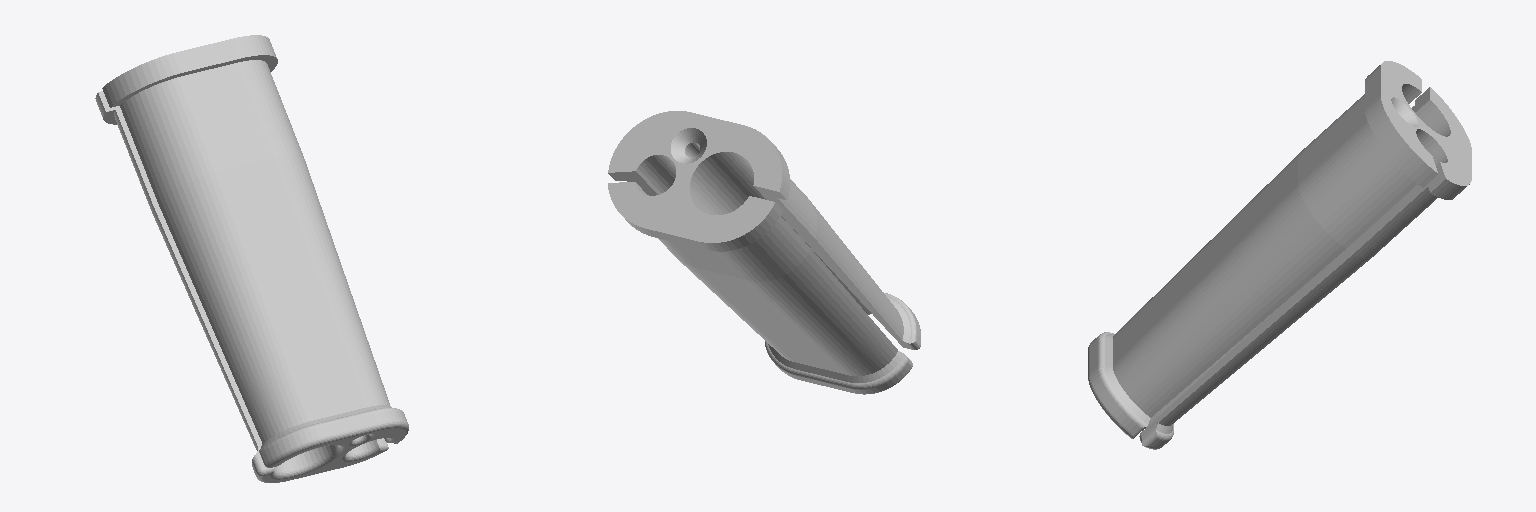
The model's file is [TPU] Strain Relief Right 6mm.obj.
3 renders of one model, left to right at view 1: azimuth 30°, elevation 25°; view 2: azimuth 150°, elevation 25°; view 3: azimuth 270°, elevation 25°, orthographic.
Visible parts, largest first — view 1: [TPU] Strain Relief Right 6mm; view 2: [TPU] Strain Relief Right 6mm; view 3: [TPU] Strain Relief Right 6mm.
Part boxes in pixels (left/top/right/bottom): [TPU] Strain Relief Right 6mm: left=95, top=35, right=408, bottom=482; [TPU] Strain Relief Right 6mm: left=608, top=111, right=920, bottom=394; [TPU] Strain Relief Right 6mm: left=1088, top=61, right=1471, bottom=449.
Size of the model in its own units: 17.17 by 34.49 by 34.49.